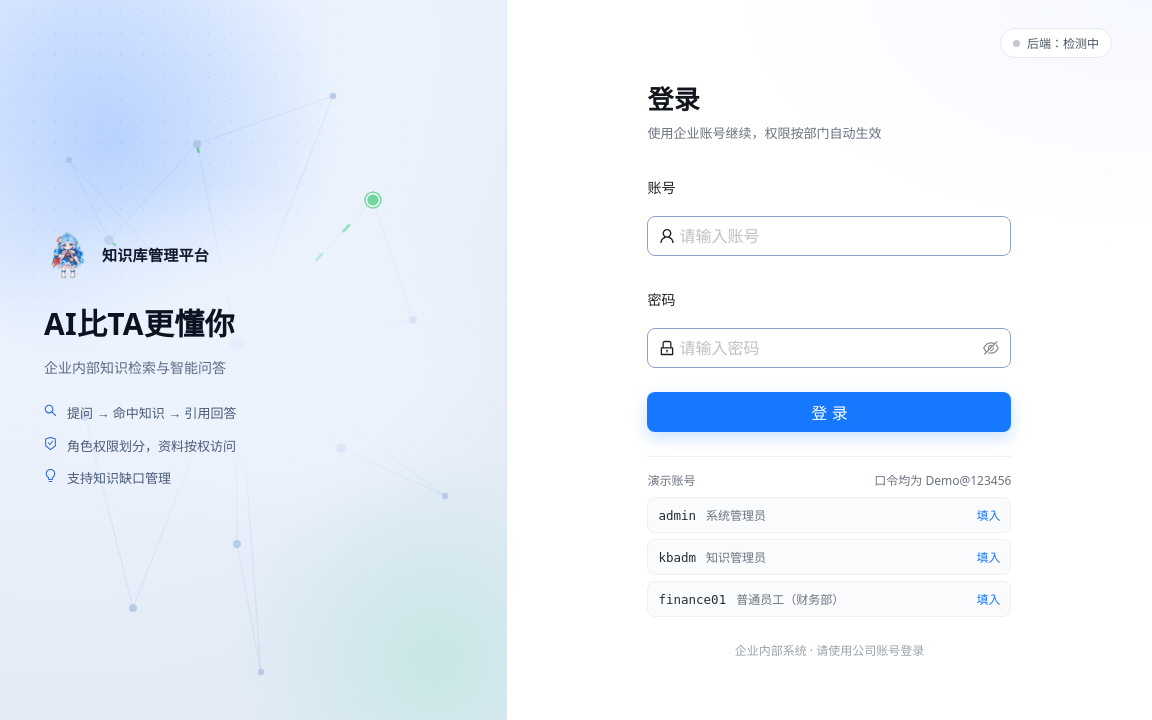
Test: 登录页 › 登录失败显示后端给的原因，不自己编一句
Type "admin" into the field labelled "账号" at (839, 236), box [679, 224, 999, 248]
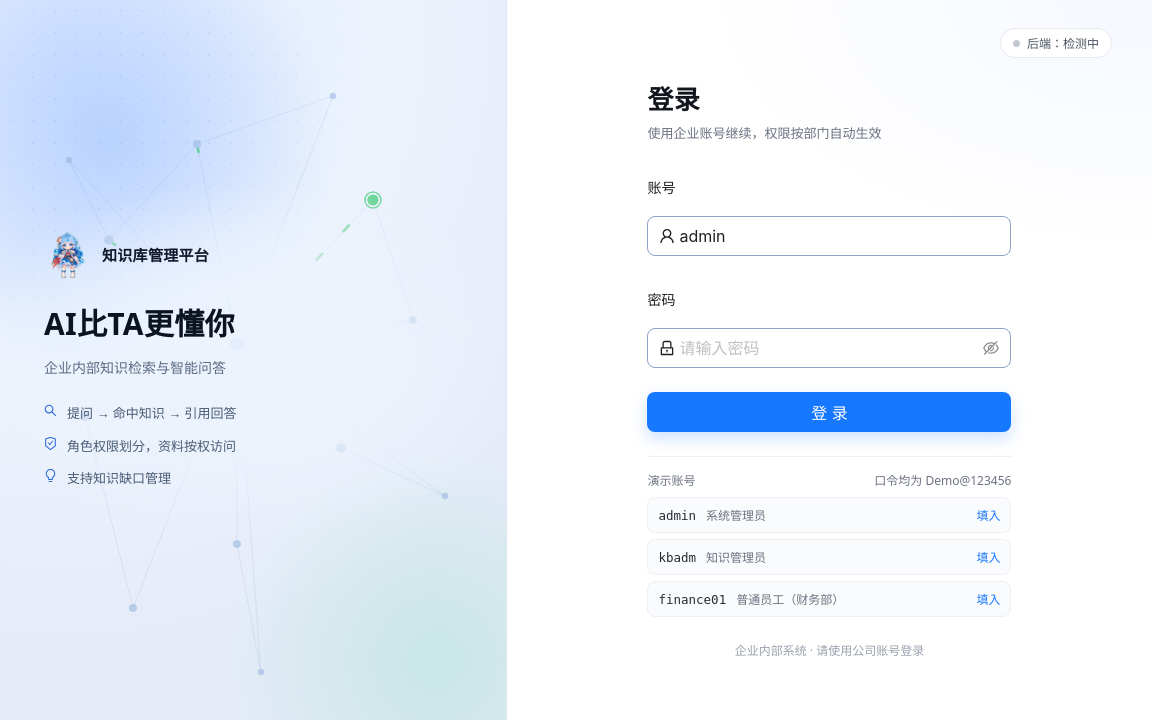
Type "wrong" into the password field labelled "密码" at (829, 348), box [679, 336, 979, 360]
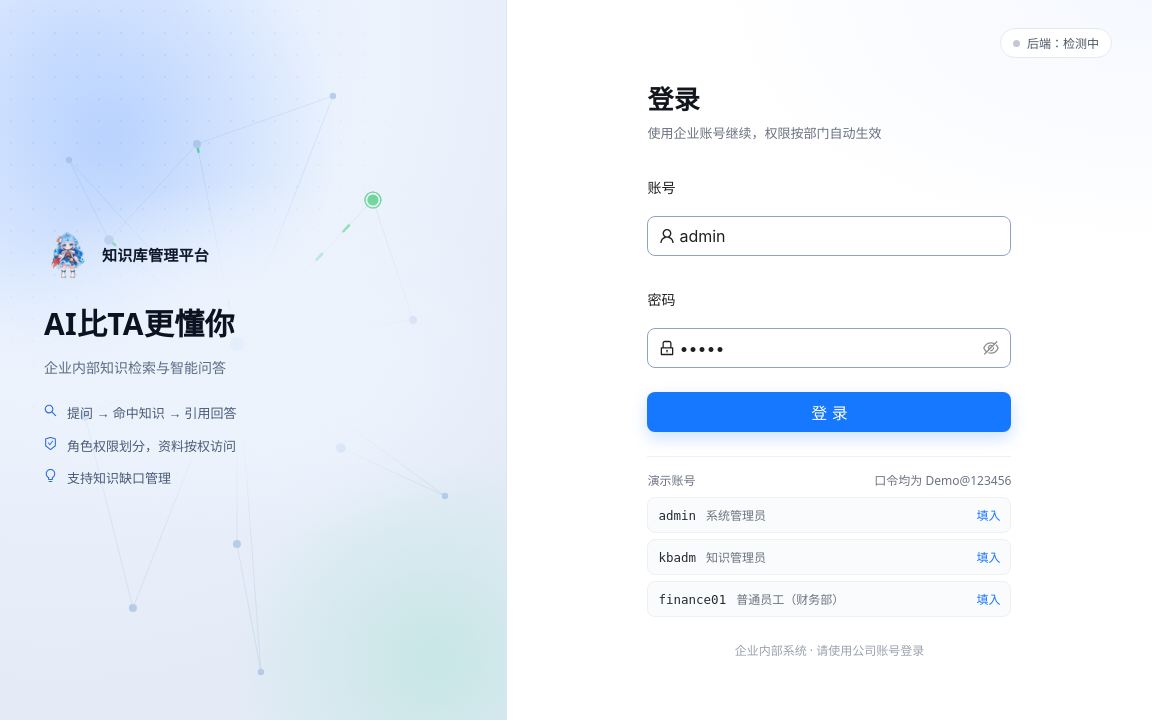
Click the button "登 录" at (829, 412), box [647, 392, 1011, 432]
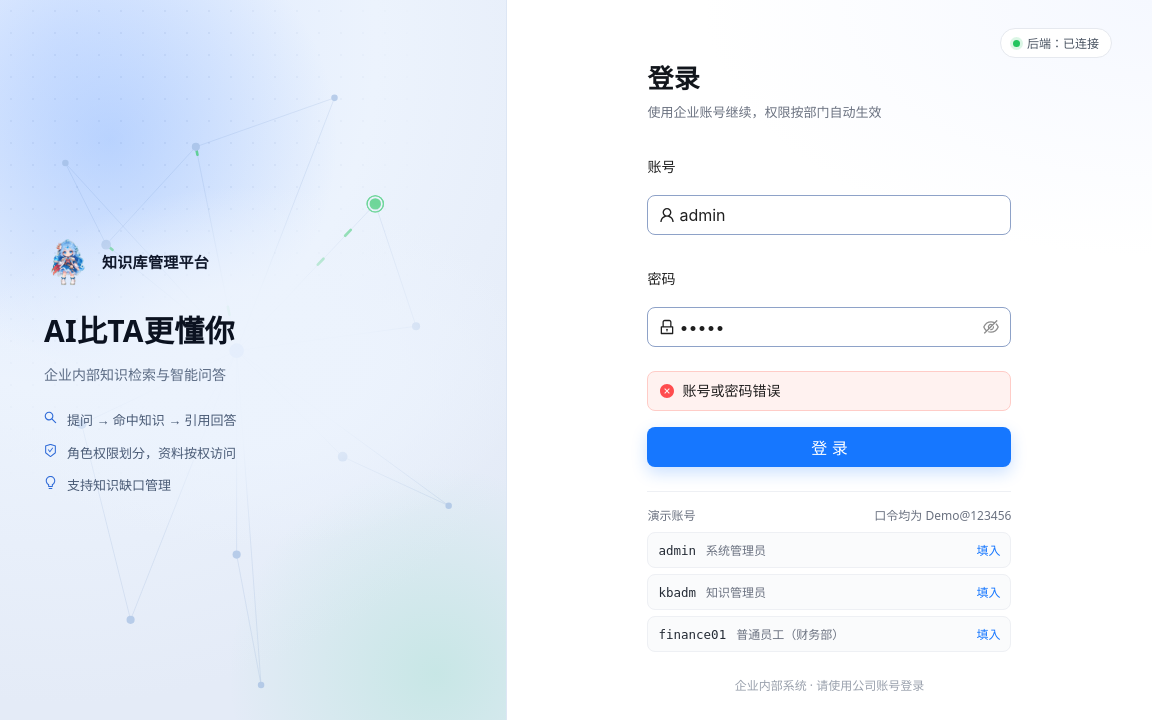
Expected: the text "账号或密码错误" is shown, [682, 382, 780, 399]
